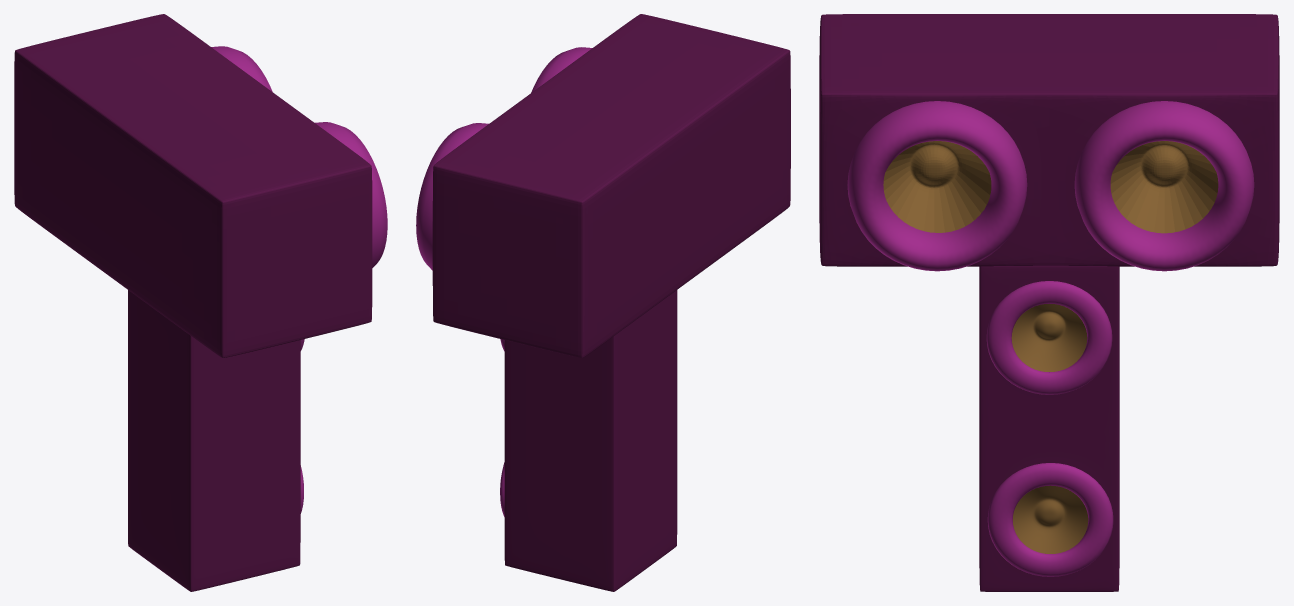
The model's file is ShooterV2.fbx.
3 views of the same model, side by side, from view 1: azimuth 30°, elevation 25°; view 2: azimuth 150°, elevation 25°; view 3: azimuth 270°, elevation 25° (orthographic). The views are drawn at different scales.
Visible parts, largest first — view 1: Cube.003, Cube.001, Torus.004, Torus.003; view 2: Cube.003, Cube.001, Torus.003, Torus.004; view 3: Cube.003, Cube.001, Torus.004, Torus.003, Torus.001, Torus.002.
Boxes of the visible parts, x1=… form: Cube.003: x1=14, y1=14, x2=372, y2=357; Cube.001: x1=128, y1=290, x2=300, y2=591; Torus.004: x1=315, y1=122, x2=387, y2=267; Torus.003: x1=211, y1=46, x2=272, y2=91; Cube.003: x1=432, y1=14, x2=790, y2=357; Cube.001: x1=504, y1=290, x2=677, y2=591; Torus.003: x1=416, y1=123, x2=488, y2=270; Torus.004: x1=531, y1=47, x2=592, y2=92; Cube.003: x1=819, y1=14, x2=1279, y2=266; Cube.001: x1=979, y1=265, x2=1119, y2=591; Torus.004: x1=847, y1=101, x2=1027, y2=271; Torus.003: x1=1074, y1=101, x2=1254, y2=271; Torus.001: x1=987, y1=463, x2=1113, y2=576; Torus.002: x1=986, y1=281, x2=1112, y2=394.
Size of the model in its own units: 102 by 239 by 200.
